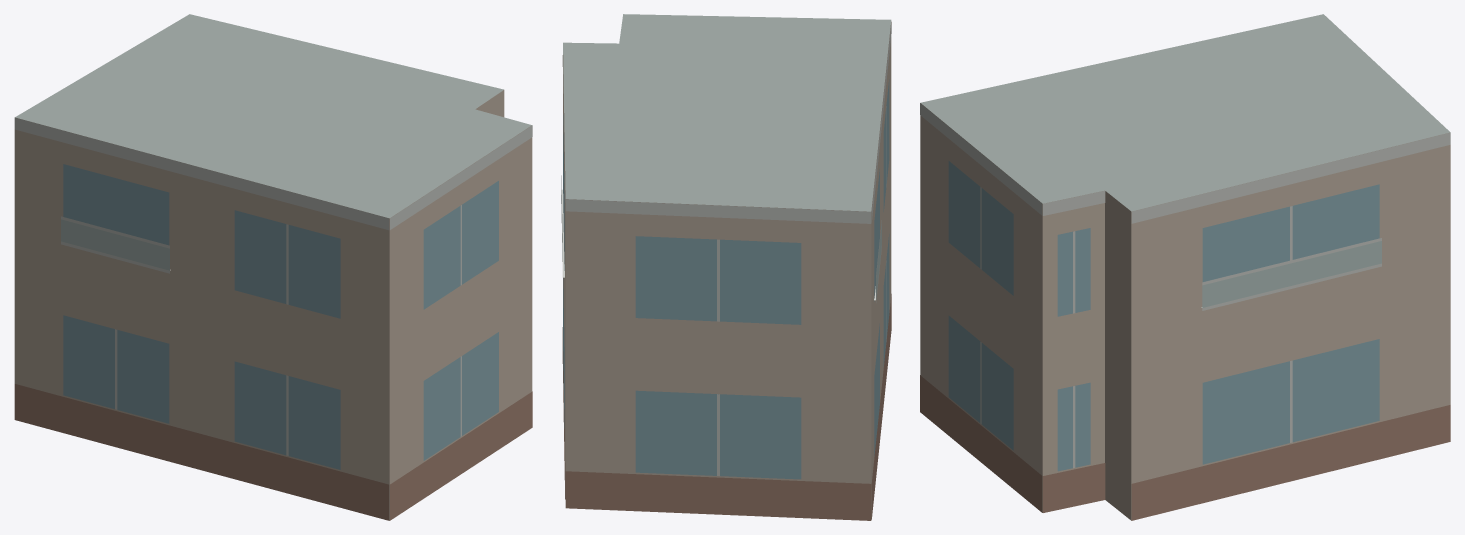
File: survey-upis-32825774.glb
The picture shows the model from 3 angles, left to right: view 1: azimuth 30°, elevation 25°; view 2: azimuth 150°, elevation 25°; view 3: azimuth 270°, elevation 25°; orthographic projection. The views are drawn at different scales.
Visible parts, largest first — view 1: survey-upis-32825774.tmp; view 2: survey-upis-32825774.tmp; view 3: survey-upis-32825774.tmp.
Boxes of the visible parts, x1,y1,x2,y2 form: survey-upis-32825774.tmp: (14, 14, 532, 520); survey-upis-32825774.tmp: (561, 14, 891, 520); survey-upis-32825774.tmp: (920, 14, 1450, 520).
Size of the model in its own units: 8.36 by 6.1 by 9.49.
